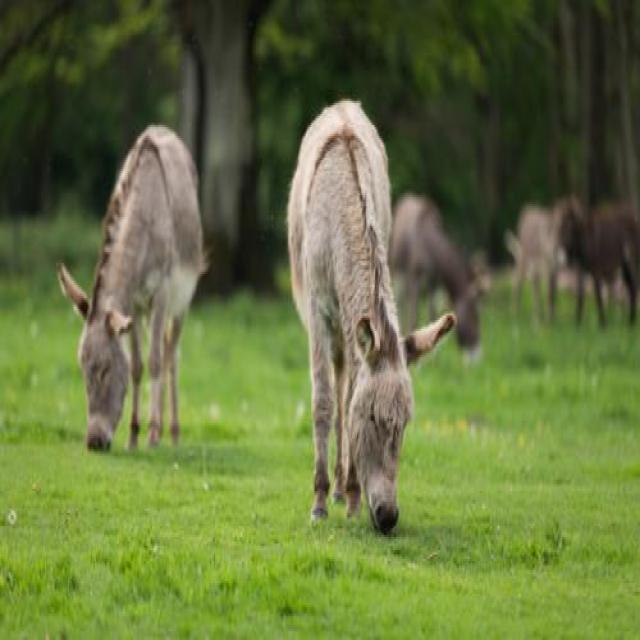Donkey: (290, 97, 458, 544), (56, 122, 208, 456), (394, 191, 484, 373), (560, 208, 640, 331), (508, 196, 564, 329)
